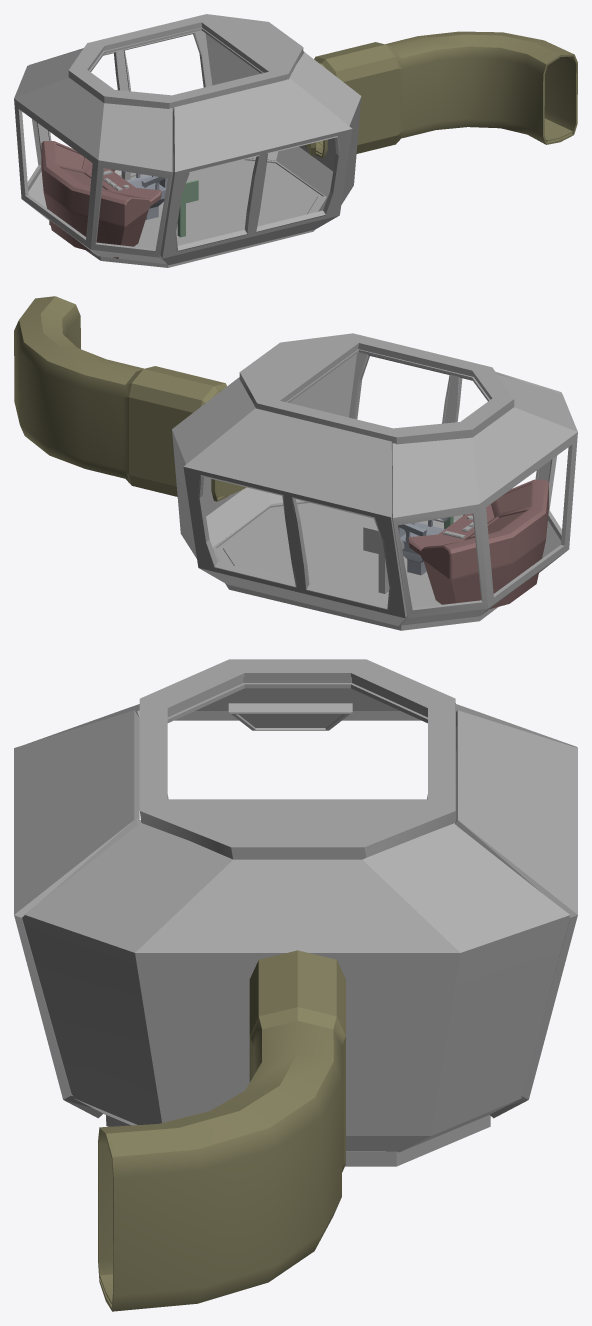
File: MZPZ_GREYBOX_3.fbx
3 renders of one model, top to bottom at view 1: azimuth 30°, elevation 25°; view 2: azimuth 150°, elevation 25°; view 3: azimuth 270°, elevation 25°, orthographic. The views are drawn at different scales.
Visible parts, largest first — view 1: polySurface23, polySurface26, Front_Wall, Ceiling, Floor, Main_Console, Rear_wall, polySurface39, Chair2, pCube4, polySurface24; view 2: polySurface23, polySurface39, Front_Wall, Ceiling, Floor, Main_Console, Rear_wall, polySurface26, Chair2, pCube22; view 3: Rear_wall, polySurface23, Ceiling, polySurface26, polySurface39, Front_Wall, pCube6, Floor.
Boxes of the visible parts, x1,y1,x2,y2 form: polySurface23: (305,31,577,157); polySurface26: (160,79,352,265); Front_Wall: (14,49,173,264); Ceiling: (68,14,303,109); Floor: (49,158,326,267); Main_Console: (41,141,161,258); Rear_wall: (205,33,361,211); polySurface39: (29,30,212,175); Chair2: (123,171,167,219); pCube4: (177,180,198,237); polySurface24: (316,118,572,154); polySurface23: (14,296,229,501); polySurface39: (183,408,407,625); Front_Wall: (392,374,577,625); Ceiling: (239,333,514,444); Floor: (213,500,497,630); Main_Console: (408,479,548,608); Rear_wall: (172,354,356,562); polySurface26: (349,352,561,520); Chair2: (398,517,448,575); pCube22: (363,526,404,593); Rear_wall: (22,818,570,1152); polySurface23: (98,950,345,1311); Ceiling: (139,659,456,859); polySurface26: (14,710,139,1118); polySurface39: (455,710,577,1118); Front_Wall: (27,688,577,799); pCube6: (228,703,352,730); Floor: (106,1115,490,1166).
Bounding box in the file's own units: 53997 × 17013 × 28825.
